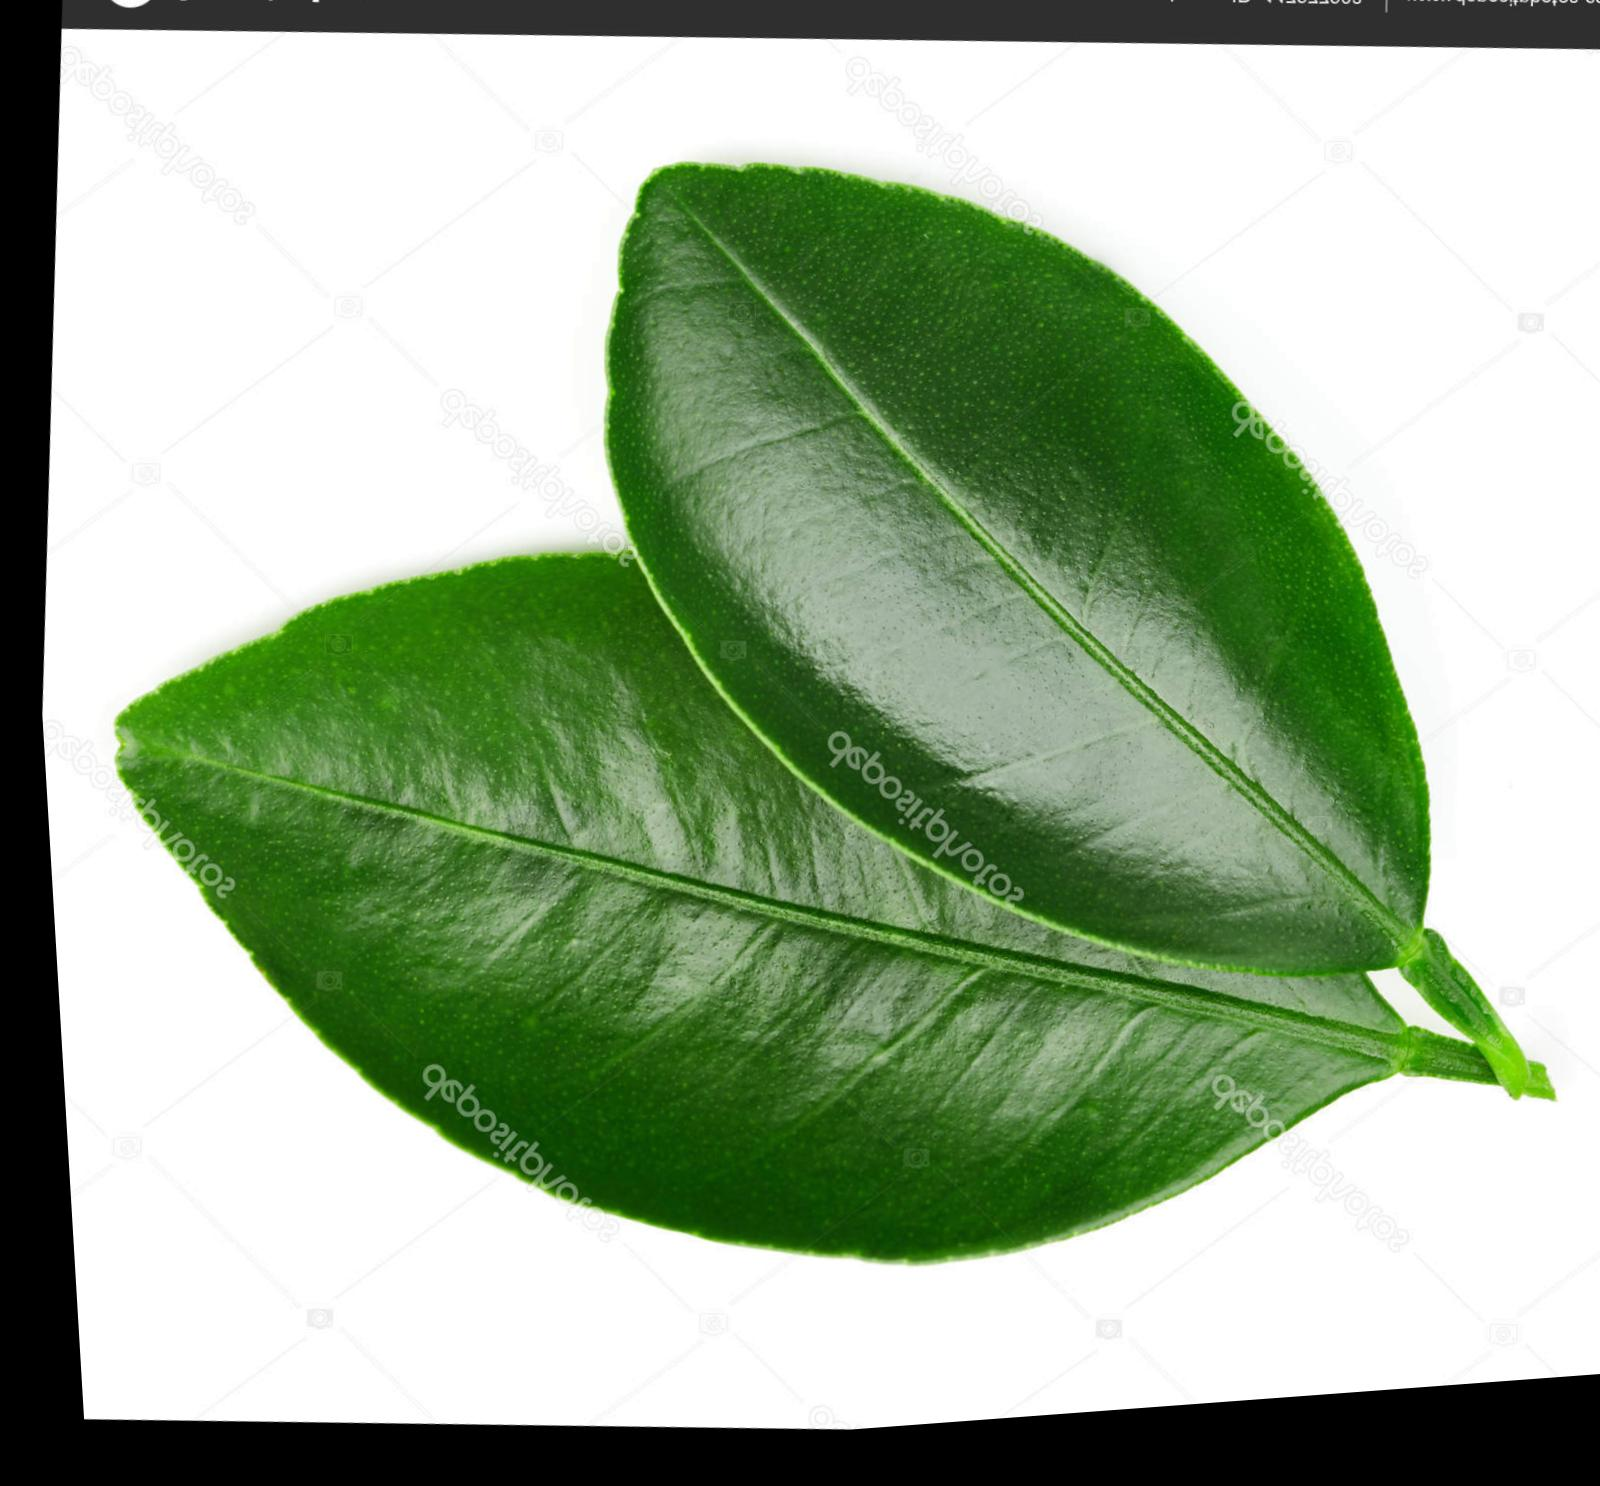Healthy Citrus: (56, 443, 1477, 1384), (561, 123, 1490, 1047)
